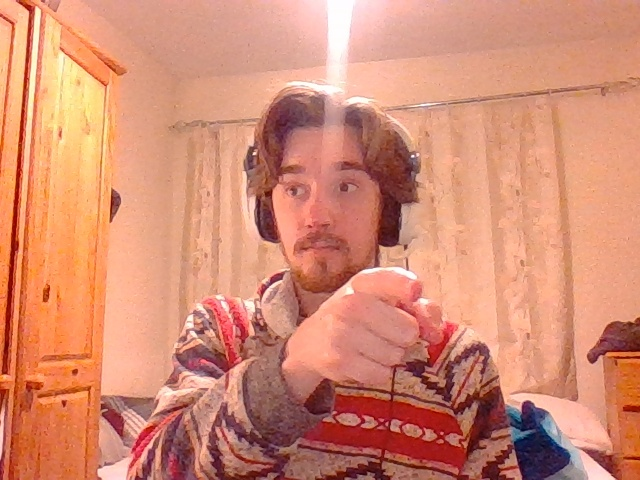you: (295, 268, 444, 390)
